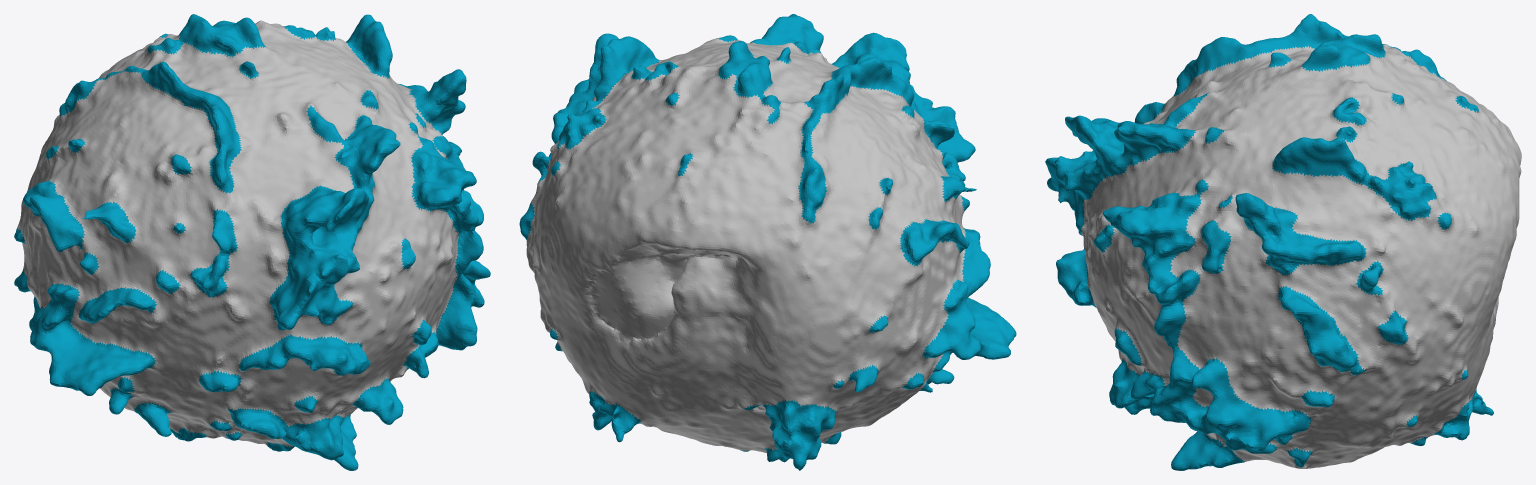
3 renders of one model, left to right at view 1: azimuth 30°, elevation 25°; view 2: azimuth 150°, elevation 25°; view 3: azimuth 270°, elevation 25°, orthographic.
Bounding box in the file's own units: 160 × 143 × 150.
